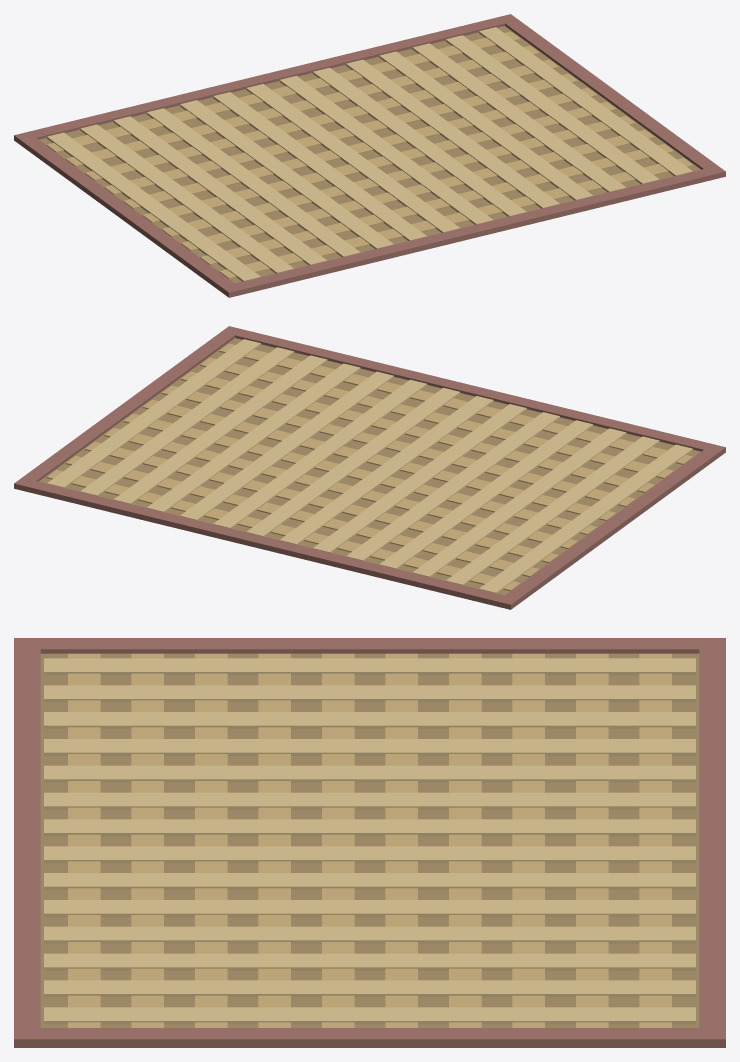
Rendered from tikar_pandan.glb.
The picture shows the model from 3 angles, top to bottom: view 1: azimuth 30°, elevation 25°; view 2: azimuth 150°, elevation 25°; view 3: azimuth 270°, elevation 25°; orthographic projection. The views are drawn at different scales.
Visible parts, largest first — view 1: tikar_dasar, bis_selatan, bis_utara, bis_barat, anyam_lintang_08, anyam_lintang_07, anyam_lintang_05, anyam_lintang_06, anyam_lintang_00, anyam_lintang_09, anyam_lintang_10, anyam_lintang_01 (+17 smaller); view 2: tikar_dasar, bis_utara, bis_selatan, bis_barat, anyam_lintang_08, anyam_lintang_07, anyam_lintang_05, anyam_lintang_06, anyam_lintang_00, anyam_lintang_09, anyam_lintang_10, anyam_lintang_01 (+17 smaller); view 3: tikar_dasar, bis_timur, anyam_lintang_04, anyam_lintang_05, anyam_lintang_10, anyam_lintang_11, anyam_lintang_00, anyam_lintang_01, anyam_lintang_06, anyam_lintang_07, anyam_lintang_12, anyam_lintang_13 (+17 smaller).
Part boxes in pixels (x1,y1,x2,y2): tikar_dasar: [39, 26, 700, 283]; bis_selatan: [221, 165, 725, 297]; bis_utara: [14, 14, 518, 145]; bis_barat: [22, 138, 234, 291]; anyam_lintang_08: [312, 67, 526, 216]; anyam_lintang_07: [279, 76, 493, 224]; anyam_lintang_05: [213, 92, 427, 240]; anyam_lintang_06: [246, 84, 460, 232]; anyam_lintang_00: [47, 132, 260, 281]; anyam_lintang_09: [346, 59, 559, 208]; anyam_lintang_10: [379, 51, 592, 200]; anyam_lintang_01: [80, 124, 293, 273]; tikar_dasar: [39, 338, 700, 595]; bis_utara: [14, 477, 518, 609]; bis_selatan: [221, 326, 725, 457]; bis_barat: [505, 450, 717, 603]; anyam_lintang_08: [213, 379, 427, 528]; anyam_lintang_07: [246, 388, 460, 536]; anyam_lintang_05: [312, 404, 526, 552]; anyam_lintang_06: [279, 396, 493, 544]; anyam_lintang_00: [479, 444, 692, 593]; anyam_lintang_09: [180, 371, 393, 520]; anyam_lintang_10: [147, 363, 360, 512]; anyam_lintang_01: [446, 436, 659, 585]; tikar_dasar: [40, 653, 699, 1027]; bis_timur: [40, 1028, 699, 1047]; anyam_lintang_04: [44, 765, 695, 782]; anyam_lintang_05: [44, 792, 695, 809]; anyam_lintang_10: [44, 926, 695, 943]; anyam_lintang_11: [44, 953, 695, 970]; anyam_lintang_00: [44, 658, 695, 675]; anyam_lintang_01: [44, 685, 695, 702]; anyam_lintang_06: [44, 819, 695, 836]; anyam_lintang_07: [44, 846, 695, 863]; anyam_lintang_12: [44, 980, 695, 997]; anyam_lintang_13: [44, 1007, 695, 1024].
Bounding box in the file's own units: 1.6 × 0.016 × 1.2.
